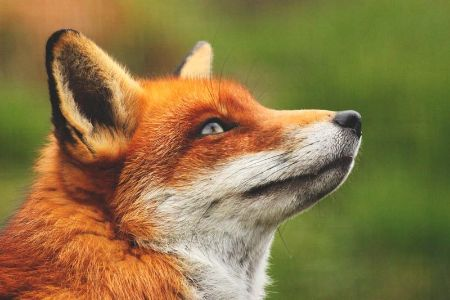fox: (21, 19, 365, 299)
